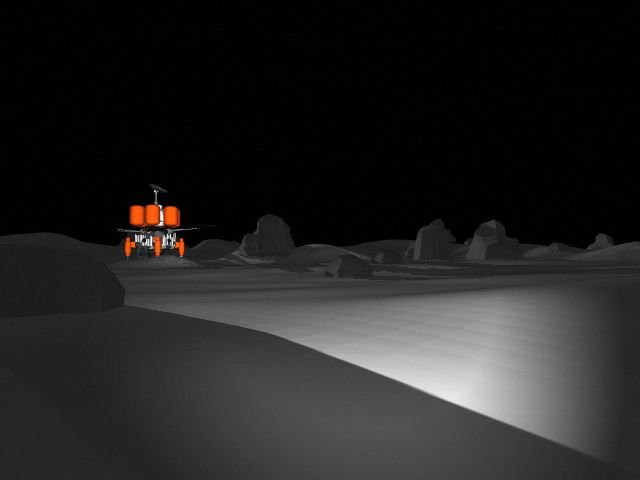homebase: (110, 183, 201, 260)
